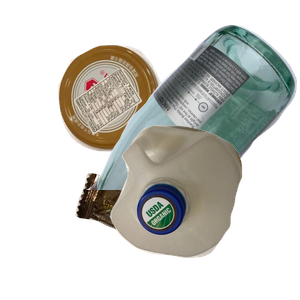glass: (86, 22, 300, 202)
metal: (56, 43, 211, 187)
plastic: (108, 123, 300, 300)
trash: (73, 171, 242, 300)
